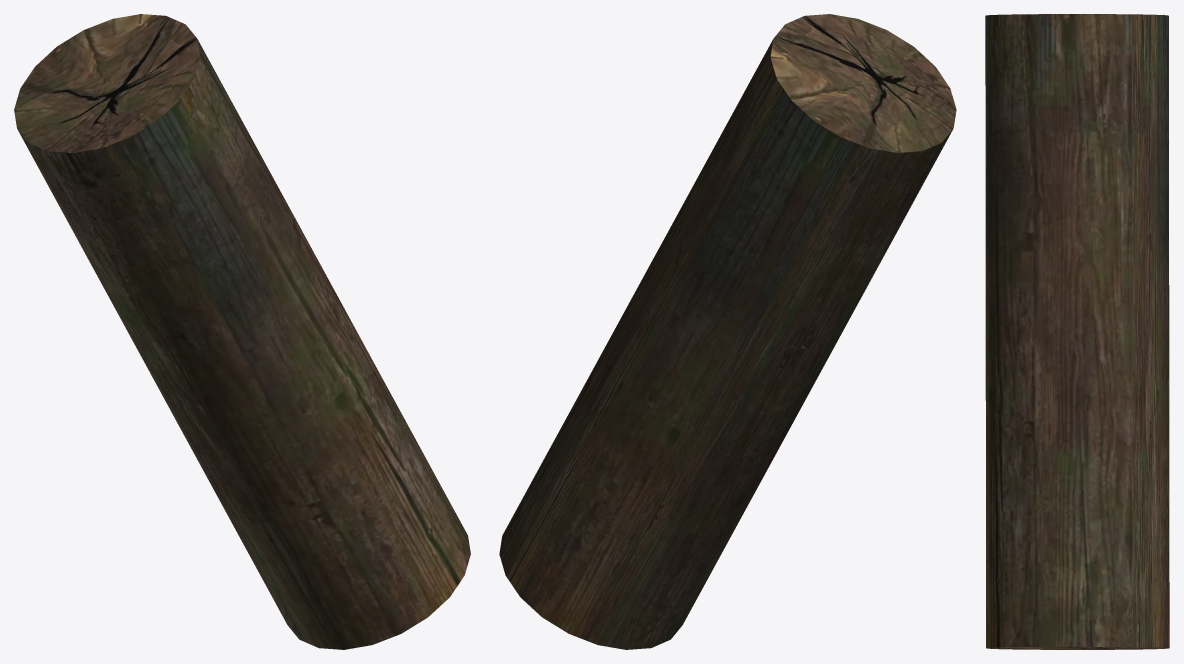
3 views of the same model, side by side, from view 1: azimuth 30°, elevation 25°; view 2: azimuth 150°, elevation 25°; view 3: azimuth 270°, elevation 25° (orthographic). The views are drawn at different scales.
Visible parts, largest first — view 1: SM_BB_T1_Beam_Thick_Med_Steep_LOD0; view 2: SM_BB_T1_Beam_Thick_Med_Steep_LOD0; view 3: SM_BB_T1_Beam_Thick_Med_Steep_LOD0.
Boxes of the visible parts, left/top/right/bottom form: SM_BB_T1_Beam_Thick_Med_Steep_LOD0: left=14, top=14, right=470, bottom=649; SM_BB_T1_Beam_Thick_Med_Steep_LOD0: left=499, top=14, right=956, bottom=649; SM_BB_T1_Beam_Thick_Med_Steep_LOD0: left=985, top=14, right=1169, bottom=649.
Bounding box in the file's own units: 1.2 × 1.72 × 0.4895.
1 material, 1 textured.
